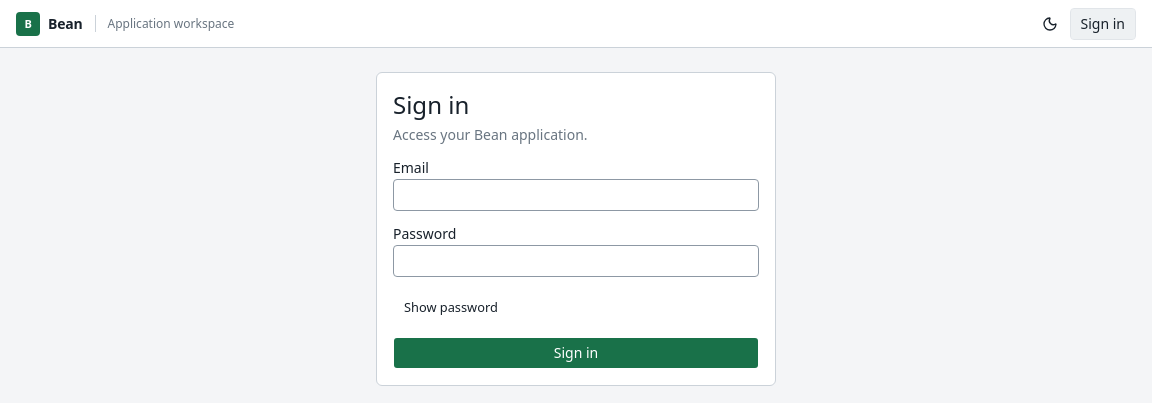
Test case: login experience › supports password managers and an accessible non-submitting visibility toggle
In the password field labelled "Password": (576, 261) [393, 245, 759, 277], type "test-password"
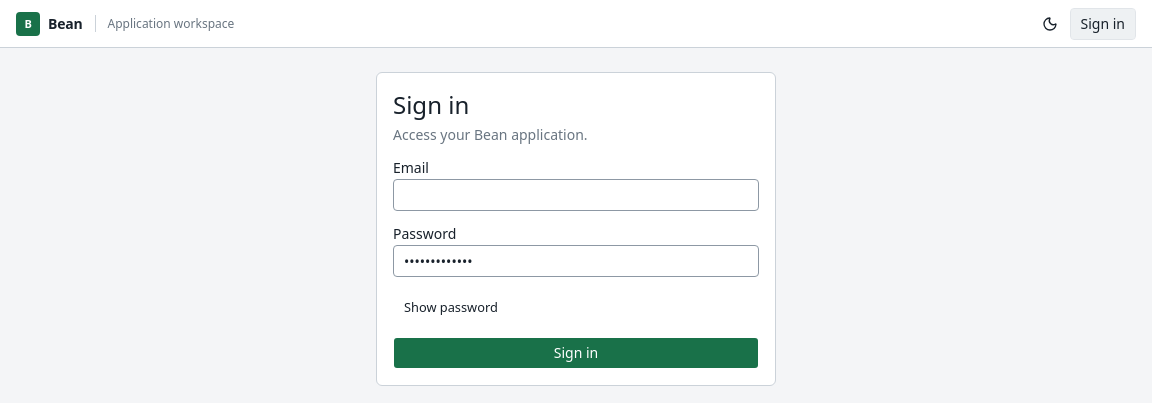
Click the button "Show password": click(451, 307) [393, 293, 509, 321]
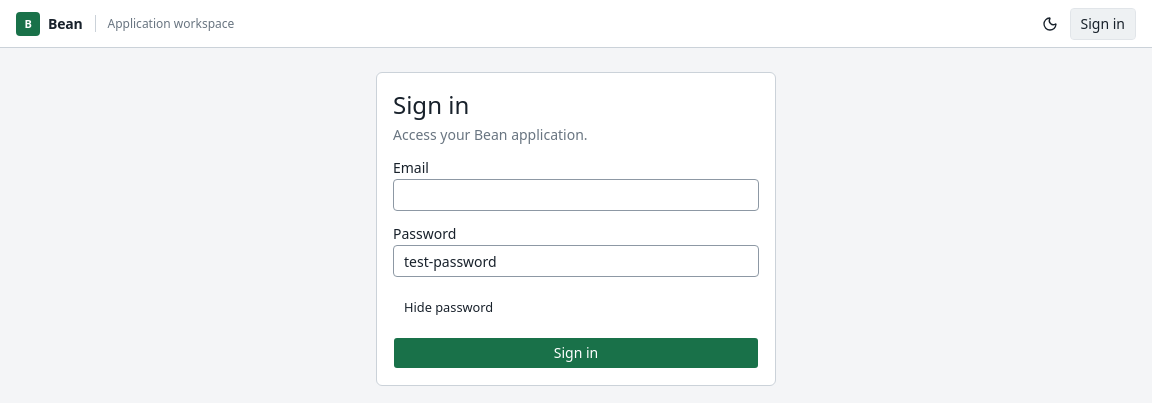
Expected: the field labelled "Password" shows its text, [393, 245, 759, 277]
Click the button "Hide password": click(449, 307) [393, 293, 504, 321]
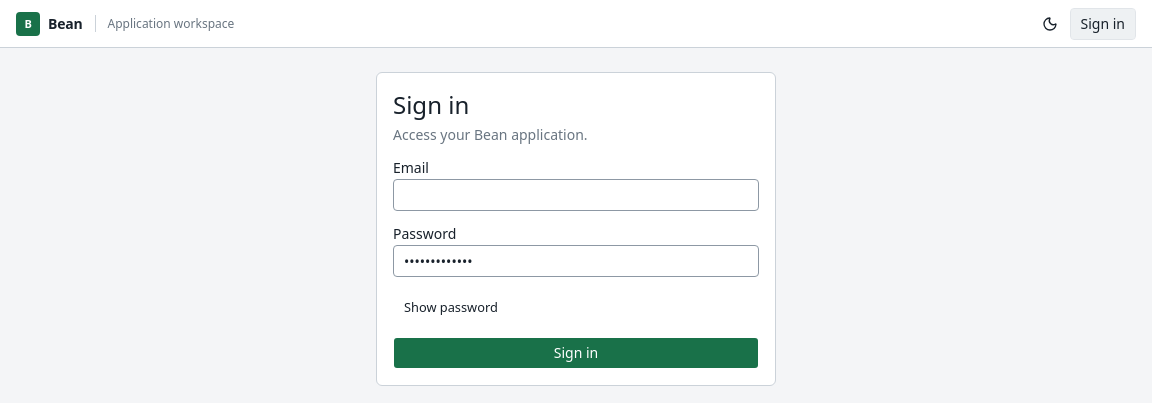
Expected: the password field labelled "Password" hides its text, [393, 245, 759, 277]
